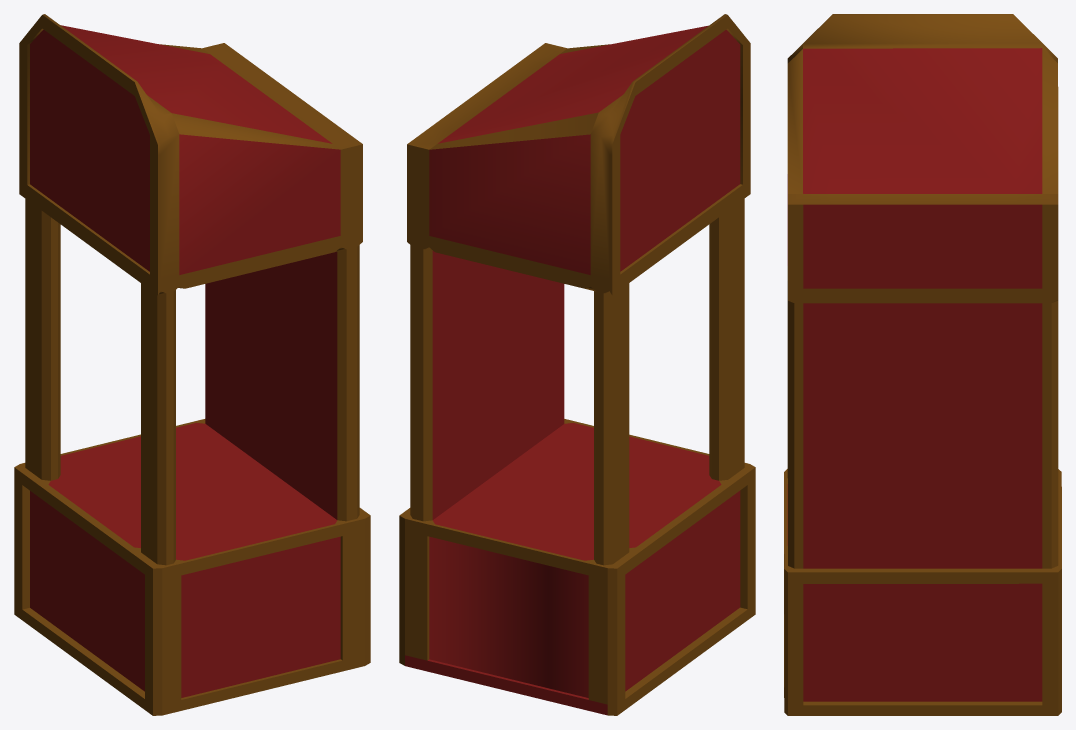
Rendered from Stall Textured.FBX.
3 renders of one model, left to right at view 1: azimuth 30°, elevation 25°; view 2: azimuth 150°, elevation 25°; view 3: azimuth 270°, elevation 25°, orthographic. The views are drawn at different scales.
Parts seen in each view (by area): view 1: Stall; view 2: Stall; view 3: Stall.
Boxes of the visible parts, <box> form: Stall: <box>14,14,370,715</box>; Stall: <box>399,14,755,715</box>; Stall: <box>784,14,1061,715</box>.
Bounding box in the file's own units: 5.32 × 14.37 × 6.03.
Materials: 2 (2 with a texture image).
